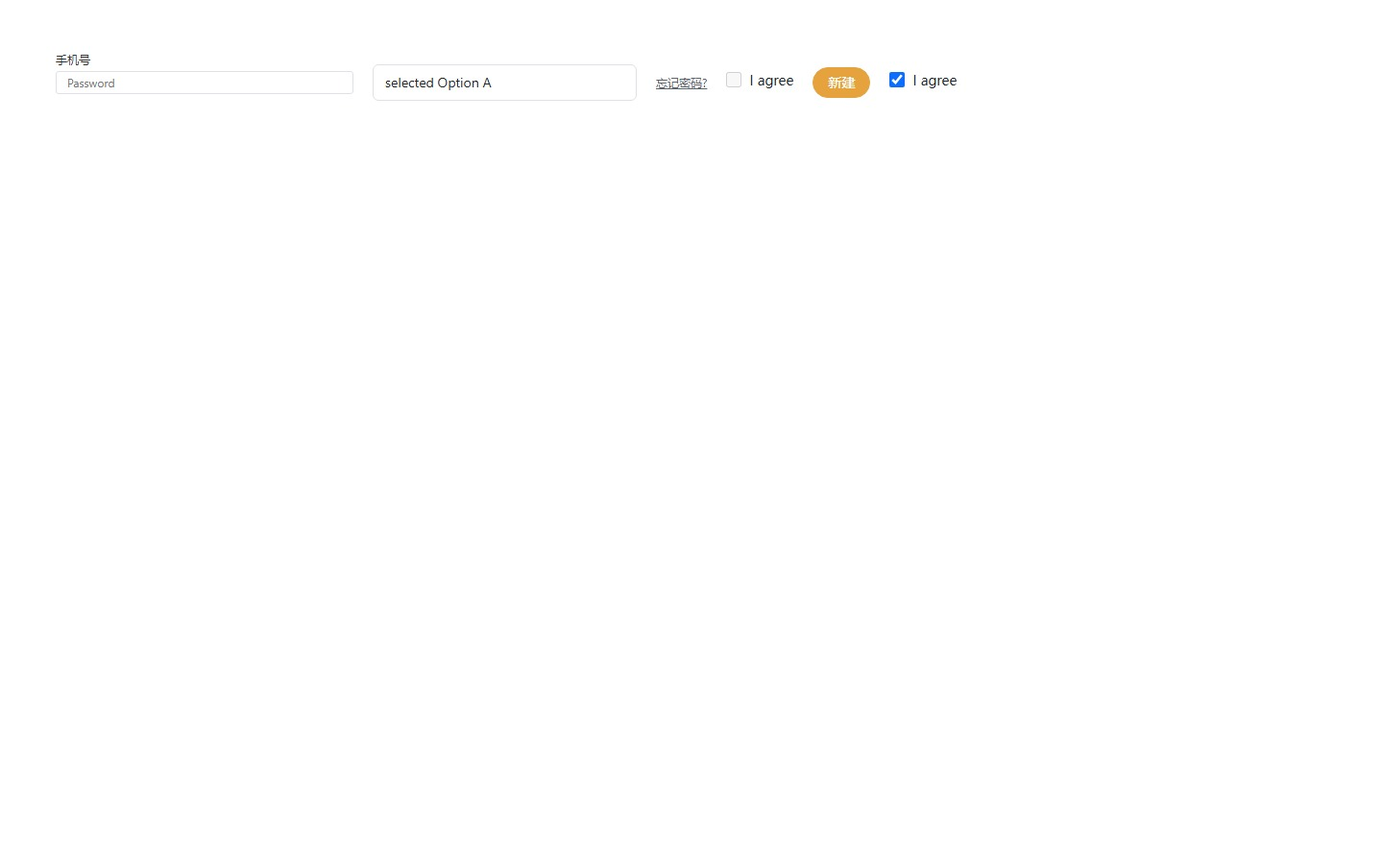button: (813, 67, 871, 98)
checkbox: (726, 72, 742, 87), (890, 72, 905, 87)
icon: (750, 71, 794, 89), (913, 71, 957, 89)
input: (56, 71, 353, 94)
link: (656, 75, 707, 90)
radio: (726, 71, 794, 89), (890, 71, 957, 89)
select: (373, 64, 637, 100)
